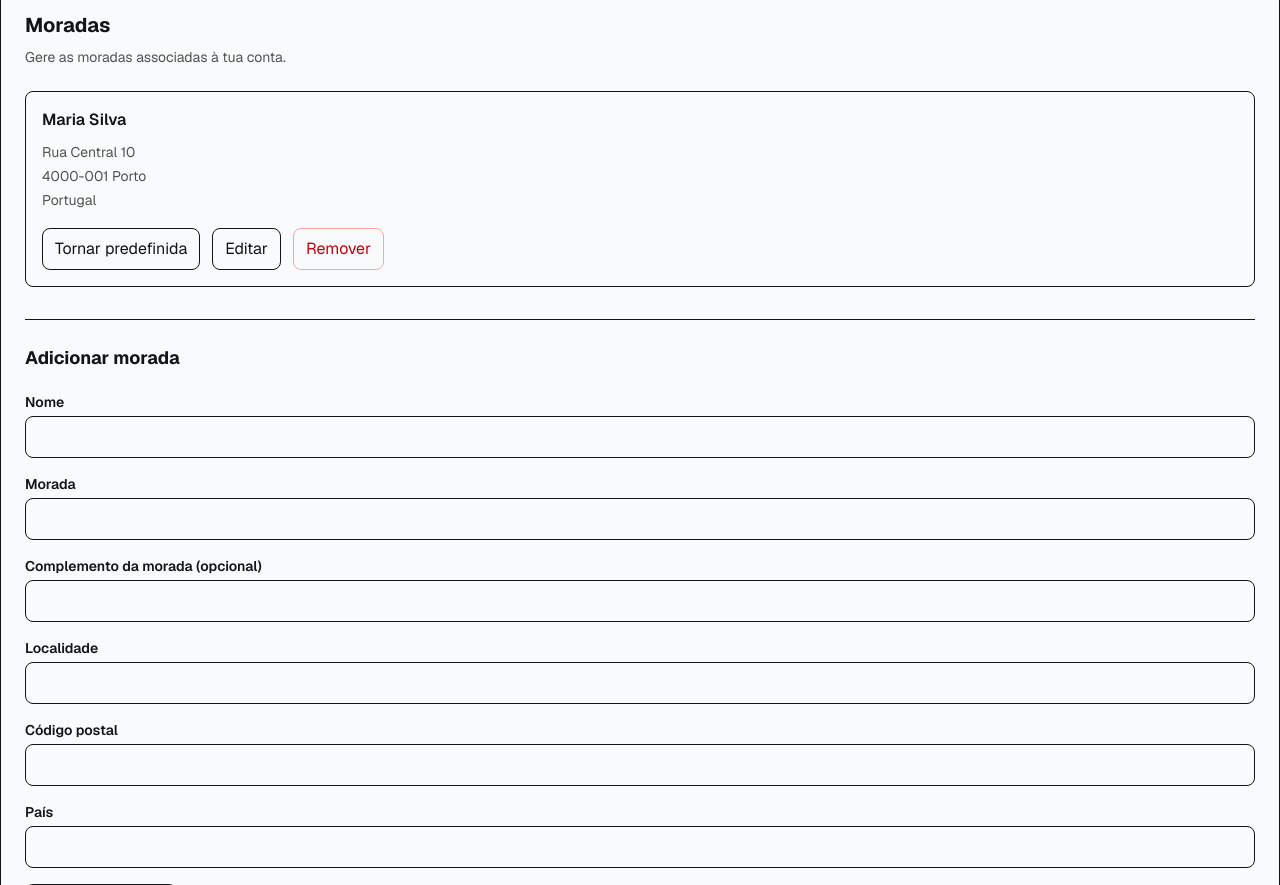
it: AddressesClient › edita uma morada existente
Expected: the text "Rua Central 10" is shown, [42,143,135,161]
Click the button "Editar" at [247, 249], box [212,228,281,270]
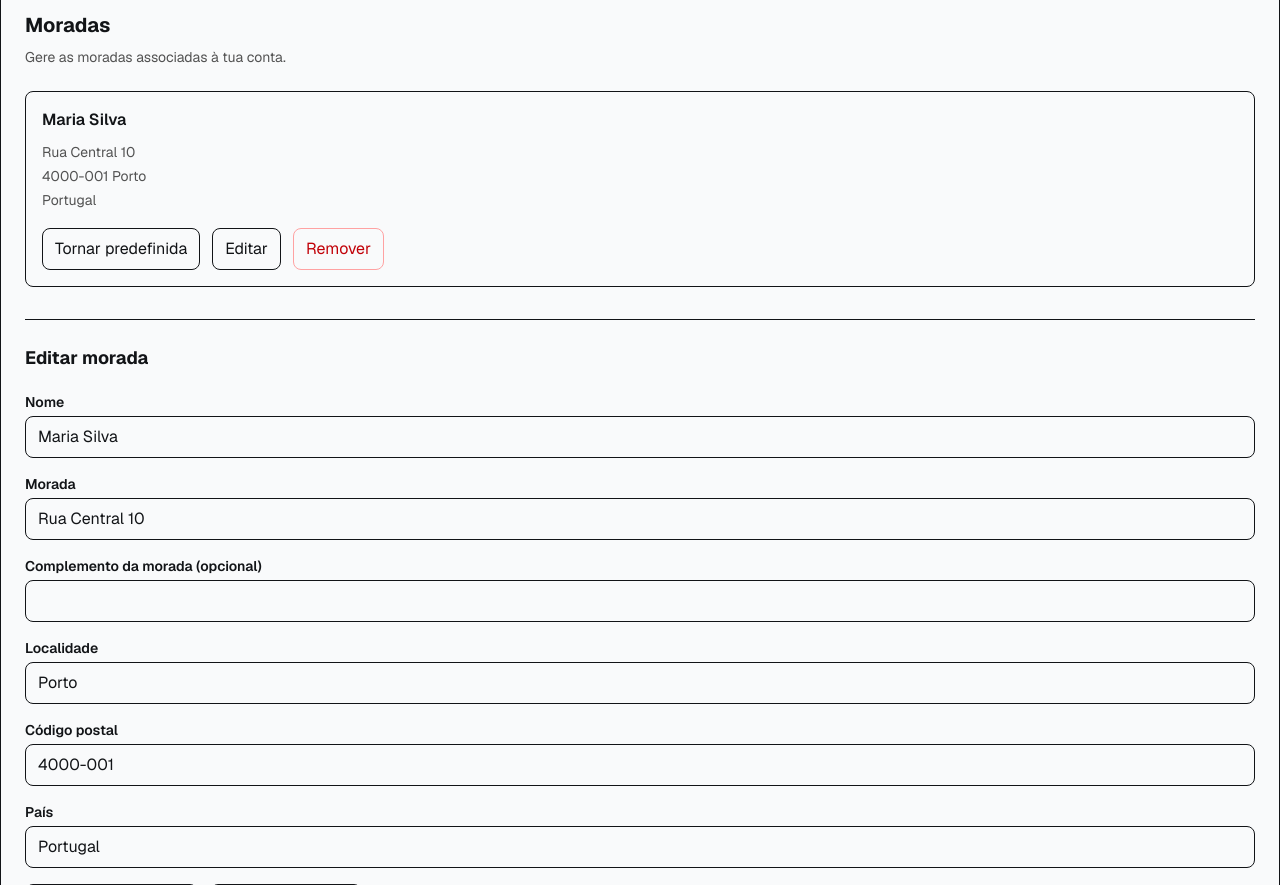
Now the heading "Editar morada" is shown, box [25,346,148,369]
Now the field labelled "Nome" holds "Maria Silva", box [25,416,1255,458]
Replace the text in the field labelled "Localidade" with "Lisboa" at [640, 683], box [25,662,1255,704]
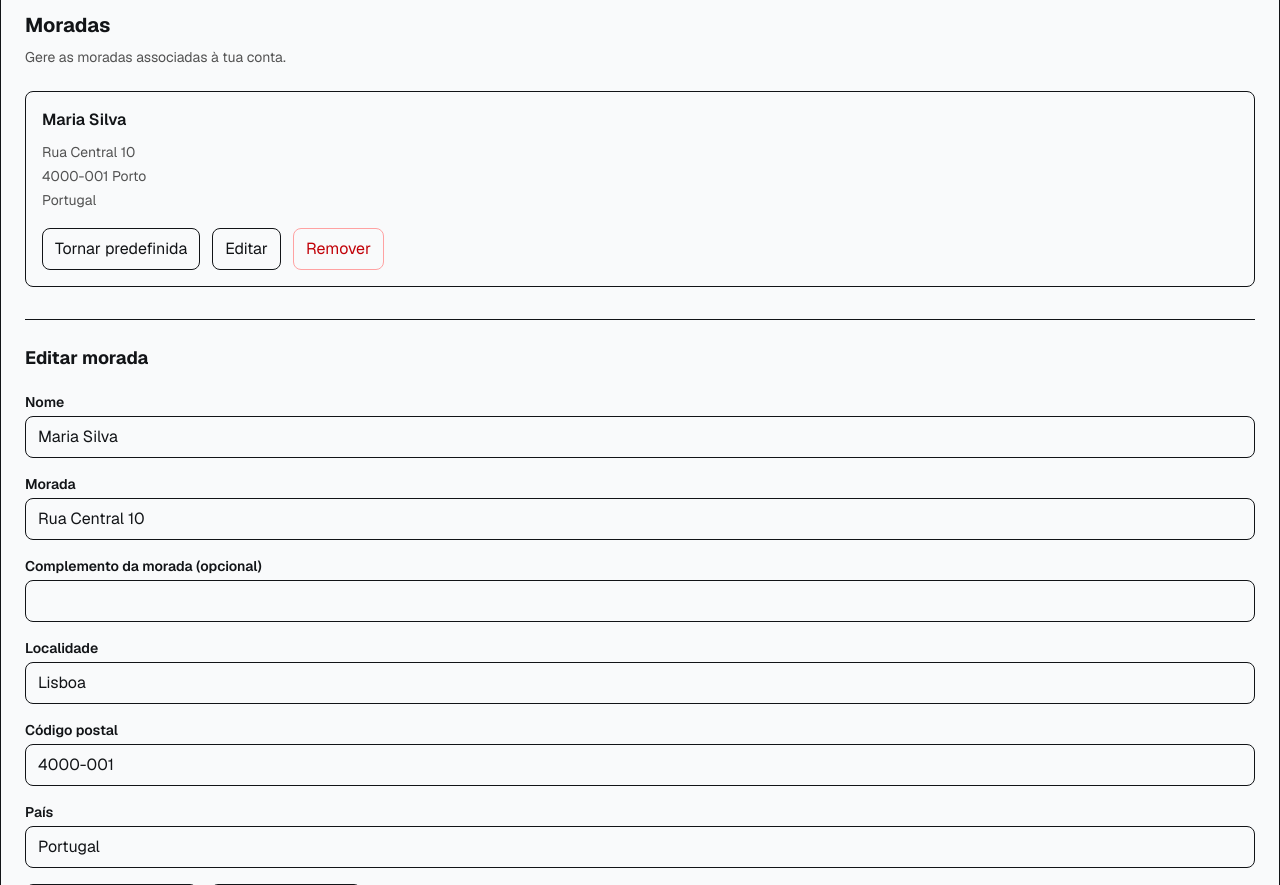
Replace the text in the field labelled "Código postal" with "1000-001" at [640, 765], box [25,744,1255,786]
(page scrolled)
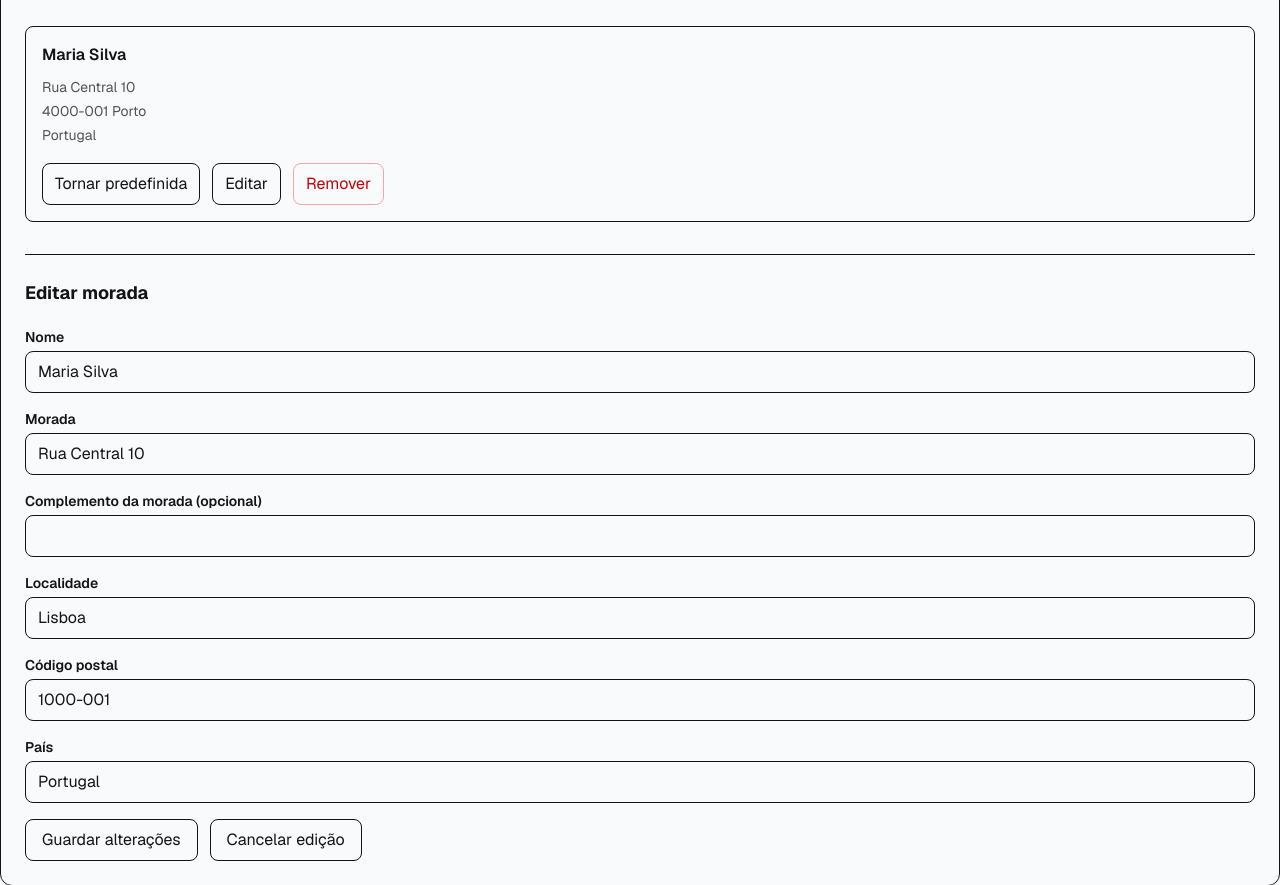
Click the button "Guardar alterações" at [111, 840], box [25,819,198,861]
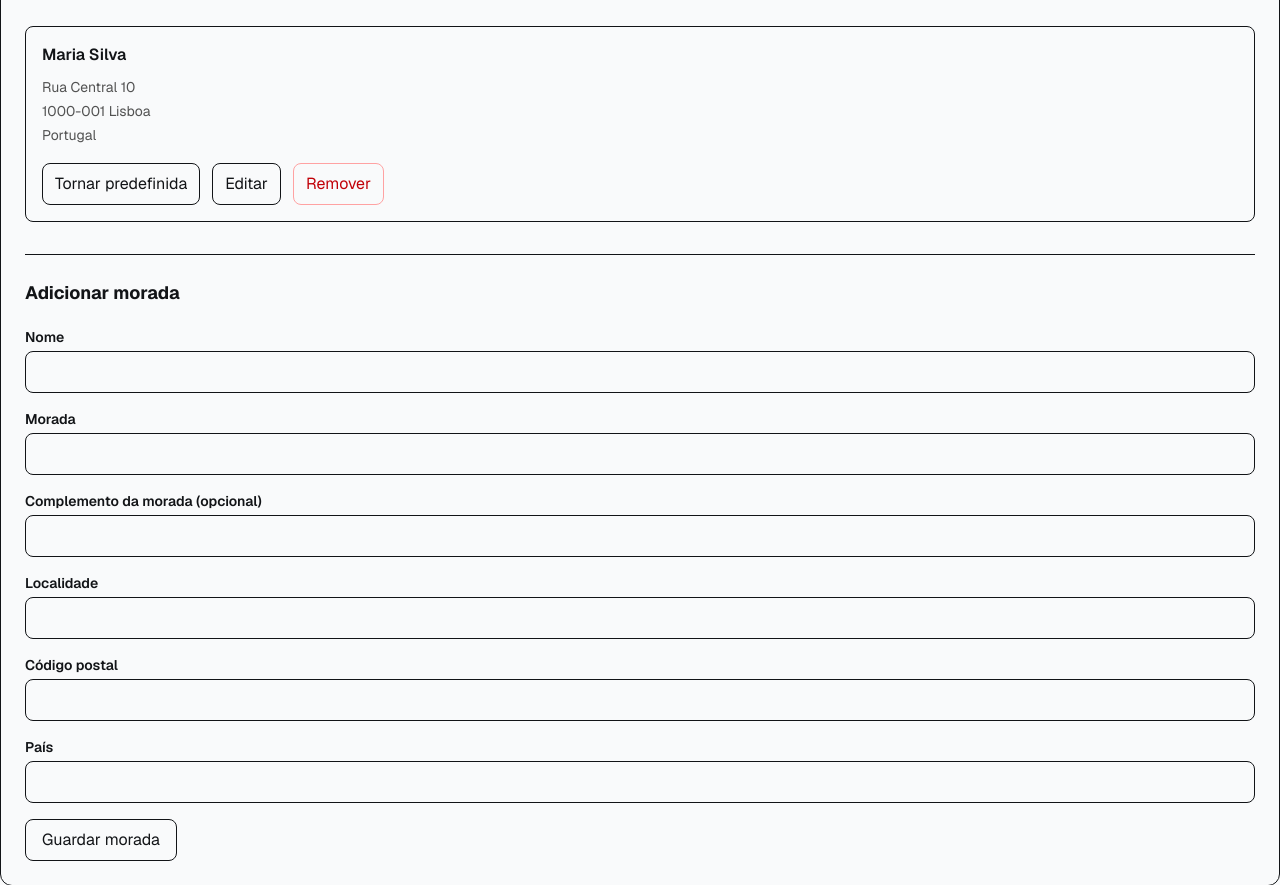
Now the text "1000-001 Lisboa" is shown, box [42,102,150,120]
Now the heading "Adicionar morada" is shown, box [25,281,180,304]
